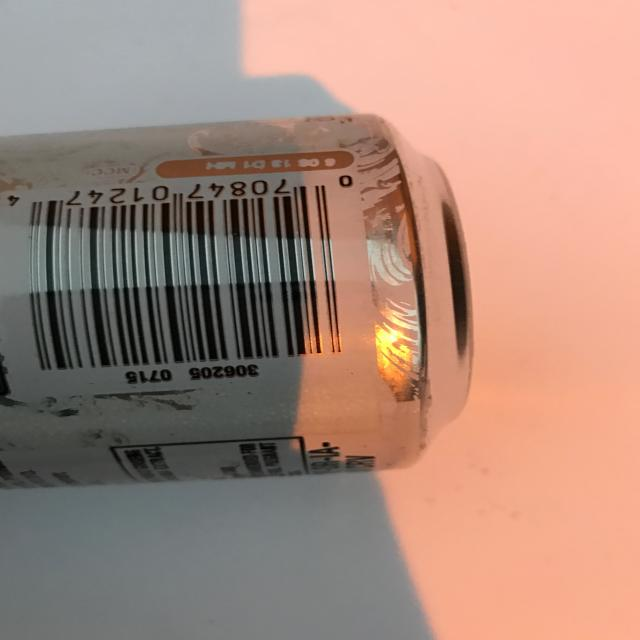metal: (0, 112, 475, 490)
